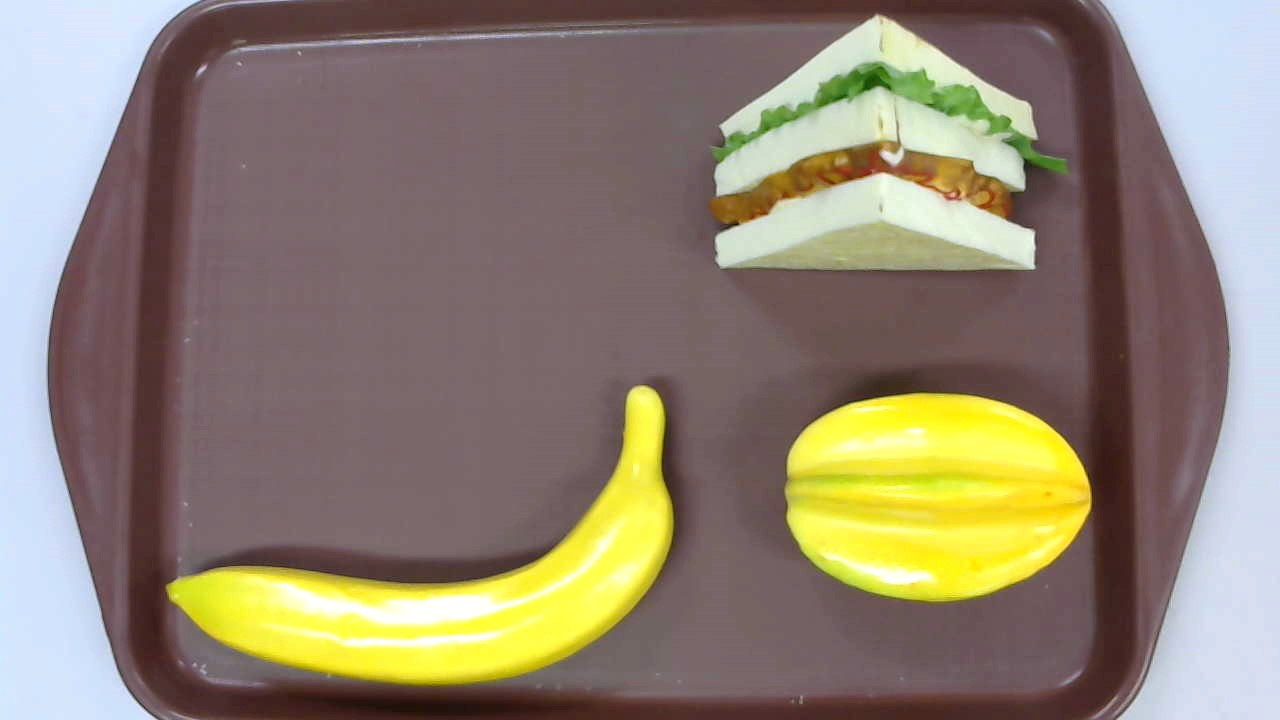banana: (166, 386, 675, 683)
sandwich: (707, 13, 1069, 273)
star fruit: (784, 391, 1091, 603)
